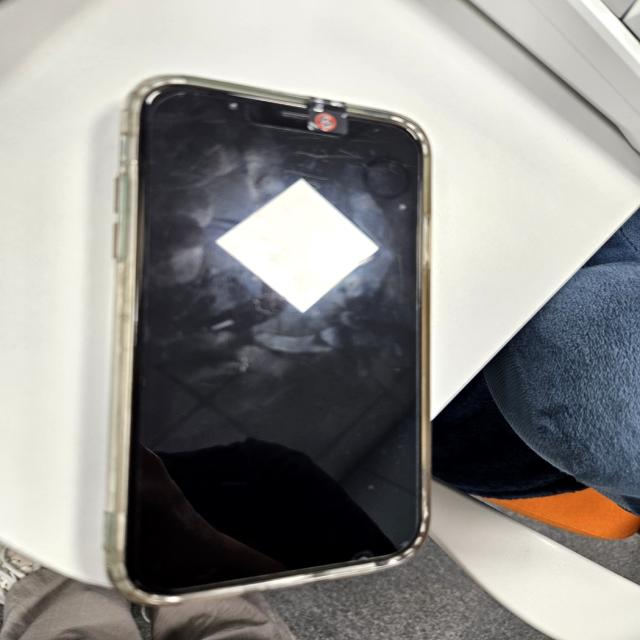phone: (114, 73, 430, 594)
sticker: (300, 93, 351, 138)
